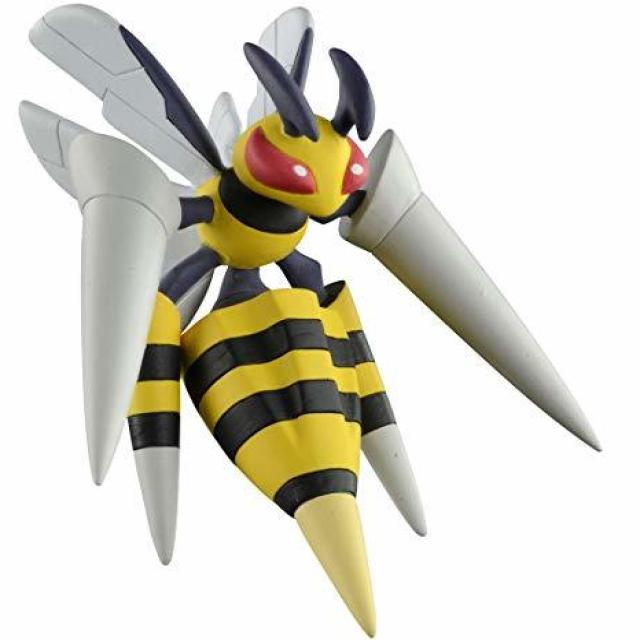Beedrill: (28, 22, 451, 574)
